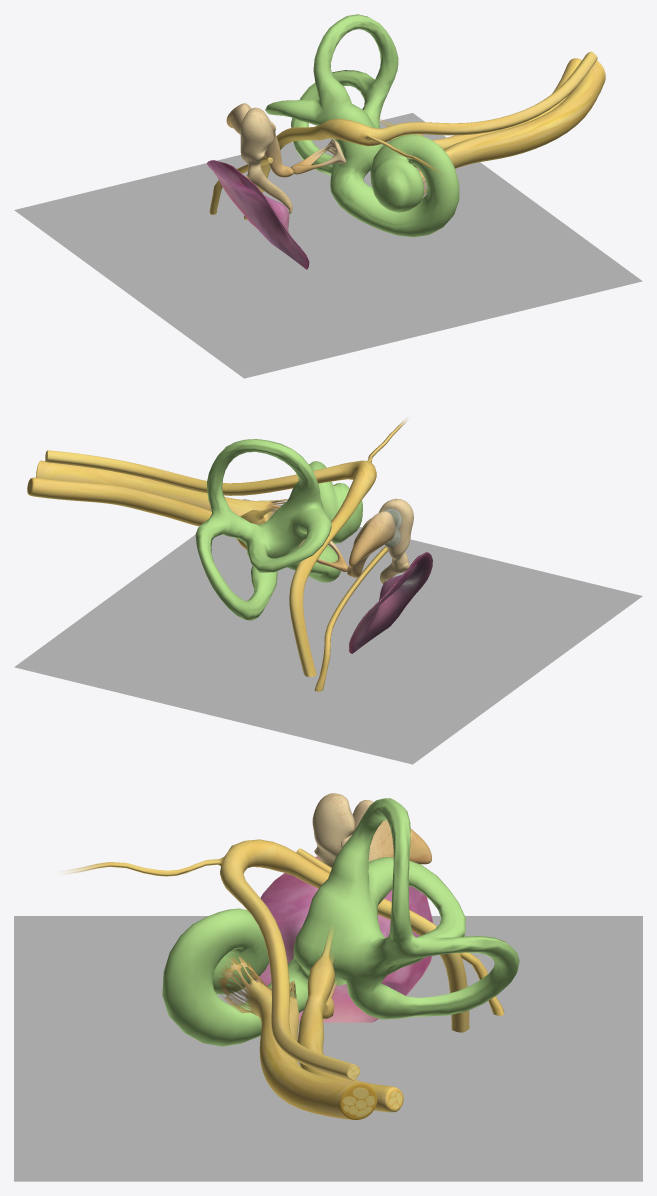
The model's file is inner-ear-lite.glb.
The picture shows the model from 3 angles, top to bottom: view 1: azimuth 30°, elevation 25°; view 2: azimuth 150°, elevation 25°; view 3: azimuth 270°, elevation 25°; orthographic projection. The views are drawn at different scales.
Visible parts, largest first — view 1: Object_8, Object_10, Object_5, Object_11, Object_6, Object_7, Object_4, Object_9, Object_3; view 2: Object_8, Object_10, Object_5, Object_9, Object_11, Object_6, Object_7, Object_4; view 3: Object_8, Object_10, Object_5, Object_11, Object_6, Object_9, Object_7, Object_4.
Boxes of the visible parts, x1,y1,x2,y2 form: Object_8: (14,113,642,378); Object_10: (265,14,459,237); Object_5: (209,51,597,219); Object_11: (412,60,605,197); Object_6: (207,160,309,269); Object_7: (240,107,292,213); Object_4: (226,103,293,177); Object_9: (377,58,581,148); Object_3: (291,139,346,174); Object_8: (14,499,642,764); Object_10: (195,439,362,620); Object_5: (46,419,407,691); Object_9: (27,477,276,549); Object_11: (36,460,287,522); Object_6: (348,552,432,653); Object_7: (378,498,413,584); Object_4: (347,511,395,577); Object_8: (14,916,642,1181); Object_10: (162,798,519,1046); Object_5: (66,839,504,1080); Object_11: (217,956,377,1119); Object_6: (250,856,432,1022); Object_9: (297,928,403,1112); Object_7: (312,793,354,867); Object_4: (341,800,431,864).
Bounding box in the file's own units: 17.52 × 9.25 × 14.52.
Materials: 10 (9 with a texture image).
